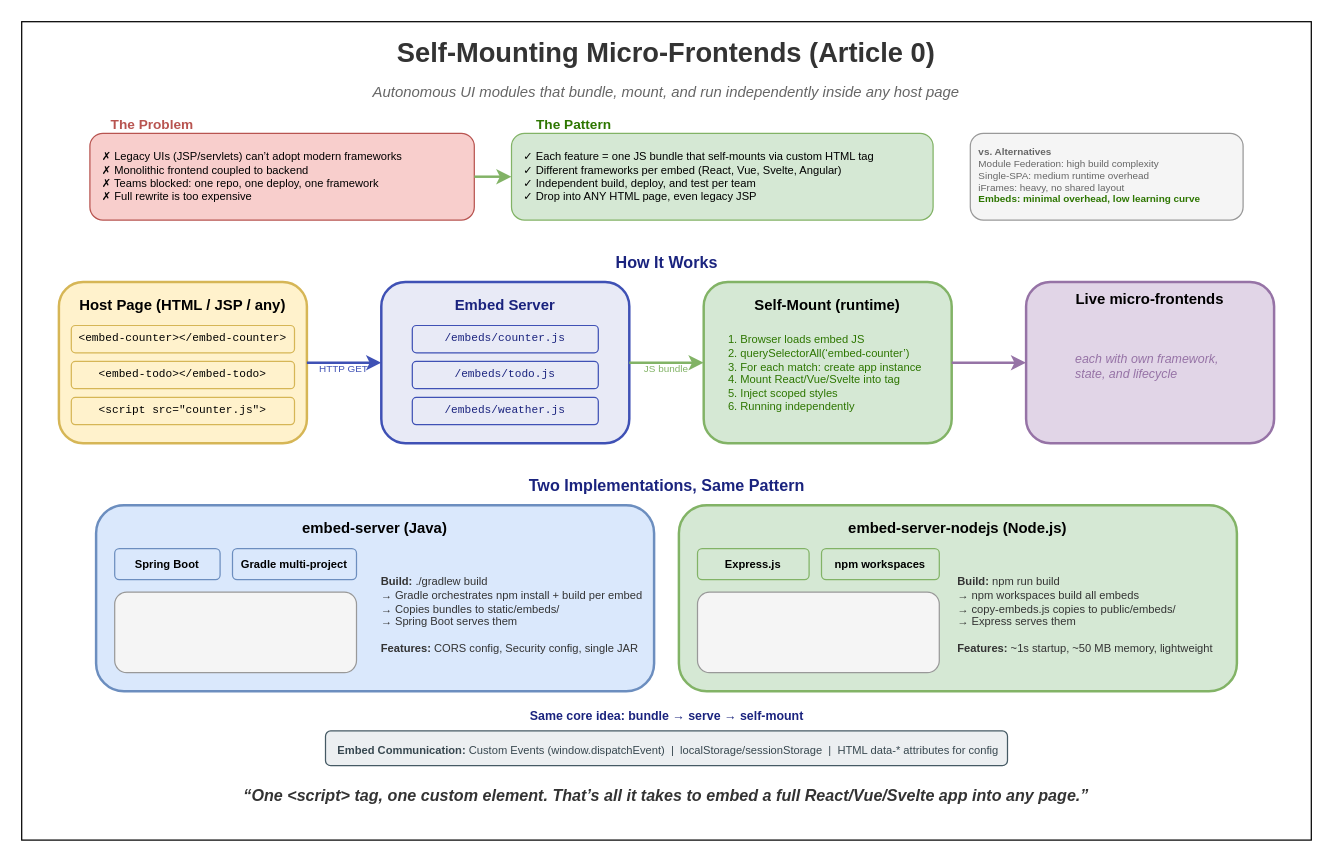
Some shapes in this 1333 by 862 pixel diagram are drawn without their labels. Here are the shapes that lost their labels. From the top down, the centre of each, then its label:
At (x=234, y=632): "embeds/ counter-embed/ (React) todo-embed/ (Vue) dashboard-embed/ (Angular)".
At (x=817, y=632): "embeds/ counter-embed/ (React) todo-embed/ (Vue) weather-embed/ (Svelte)".
